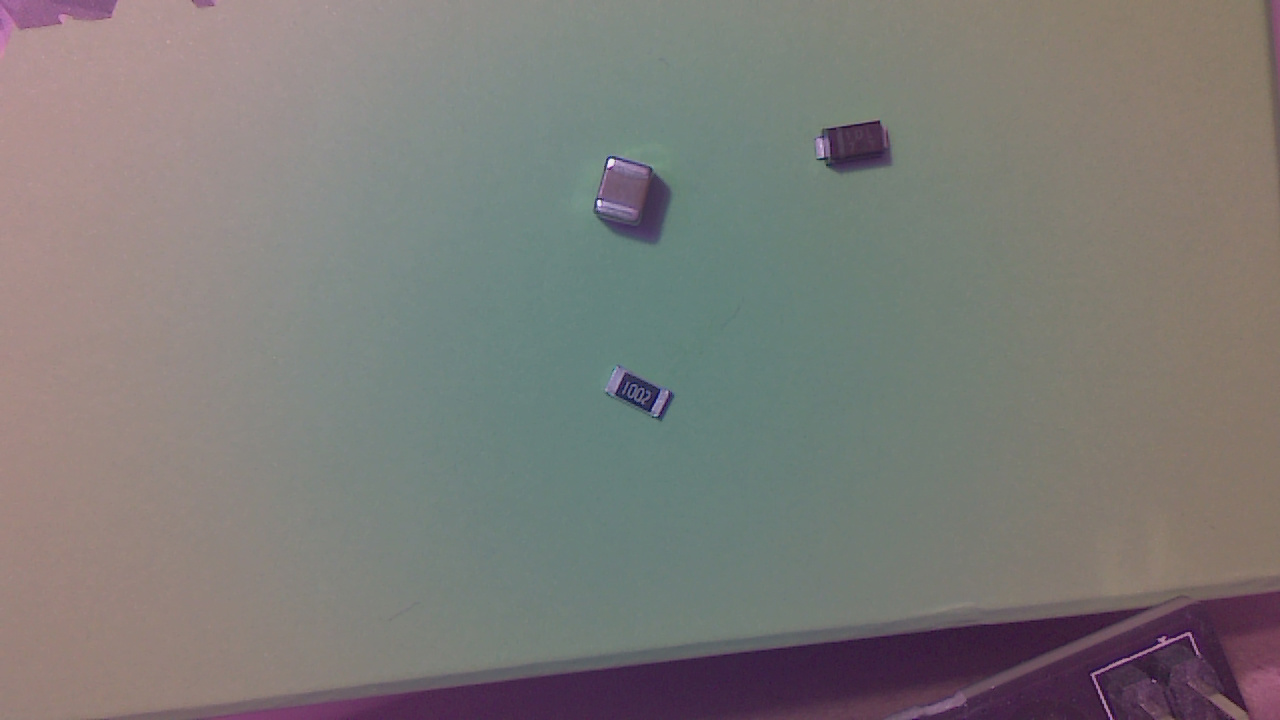Condensator: (596, 161, 665, 232)
Diode: (820, 127, 897, 178)
Resistor: (610, 372, 678, 422)
